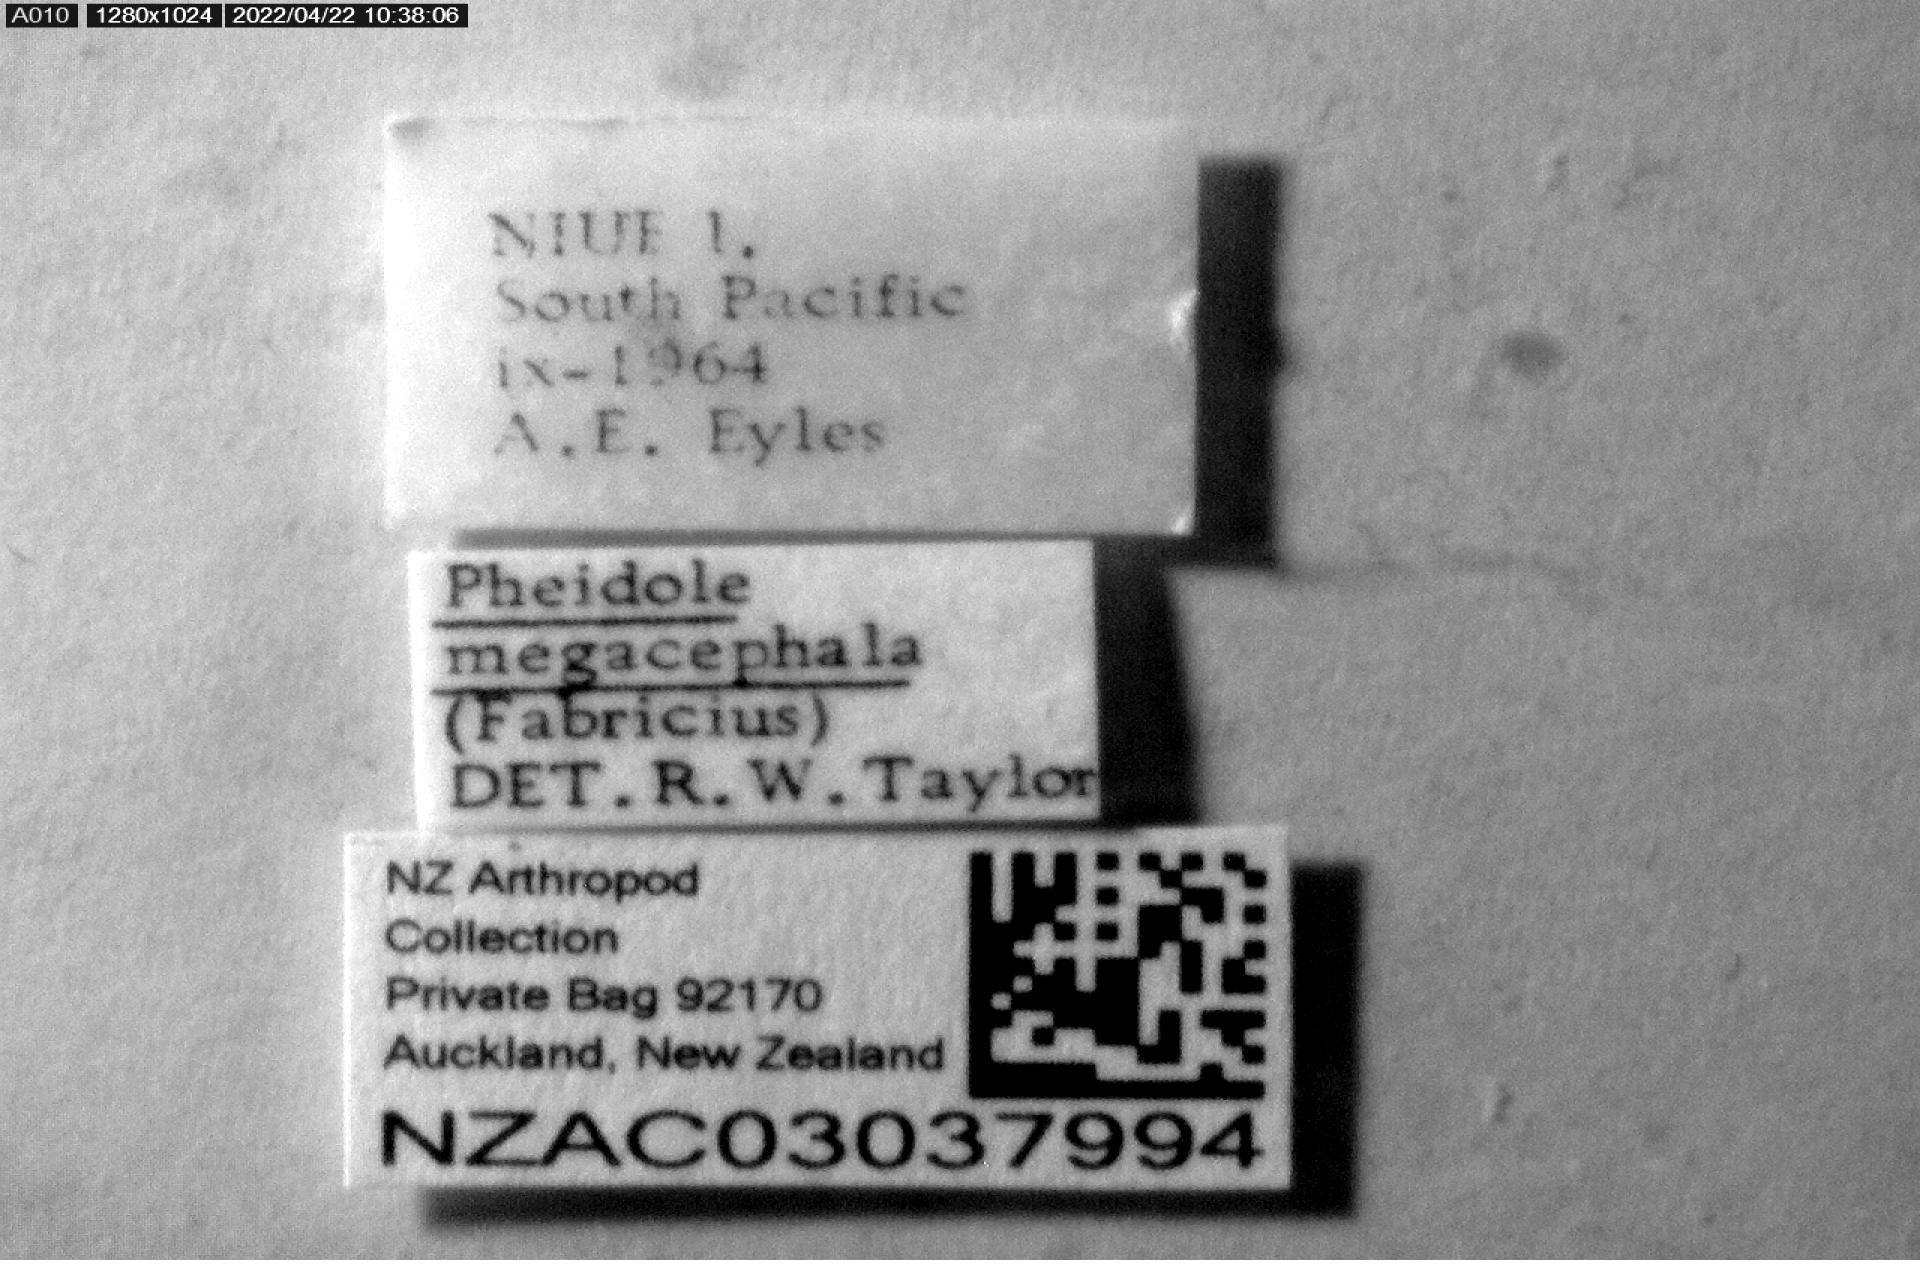typed_label: (346, 829, 1290, 1190), (386, 116, 1196, 534), (409, 540, 1099, 829)
